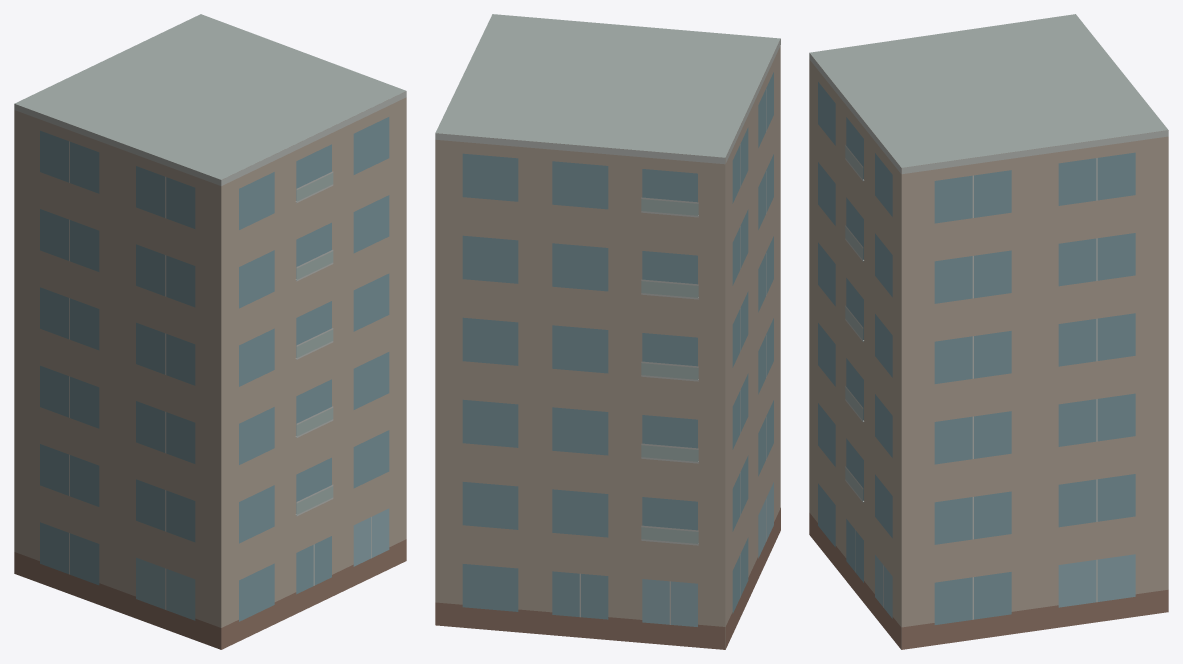
File: survey-upis-32667068.glb
3 views of the same model, side by side, from view 1: azimuth 30°, elevation 25°; view 2: azimuth 150°, elevation 25°; view 3: azimuth 270°, elevation 25° (orthographic). The views are drawn at different scales.
Parts seen in each view (by area): view 1: survey-upis-32667068.tmp; view 2: survey-upis-32667068.tmp; view 3: survey-upis-32667068.tmp.
Boxes of the visible parts, <box> form: survey-upis-32667068.tmp: <box>14,14,406,649</box>; survey-upis-32667068.tmp: <box>435,14,780,649</box>; survey-upis-32667068.tmp: <box>809,14,1168,649</box>.
Size of the model in its own units: 12.54 by 18.3 by 12.37.
